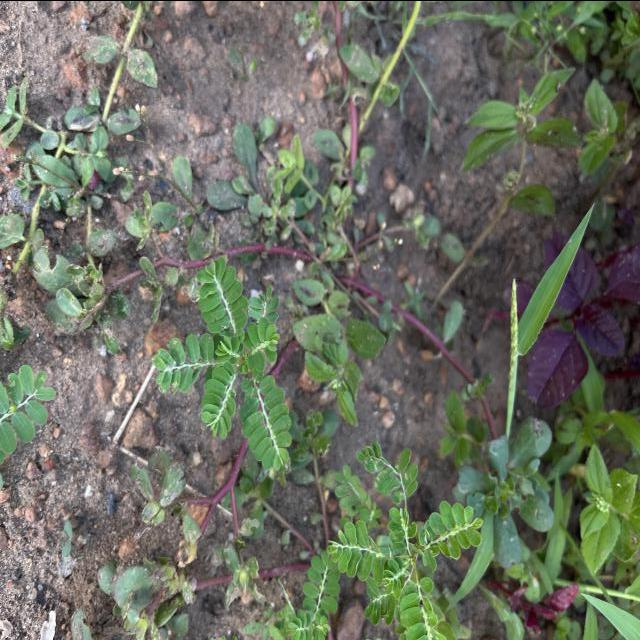Phyllanthus niruri: (237, 372, 293, 476), (150, 331, 218, 395), (420, 500, 484, 568), (197, 254, 250, 335), (327, 514, 391, 580), (199, 359, 239, 439), (240, 315, 280, 375)
